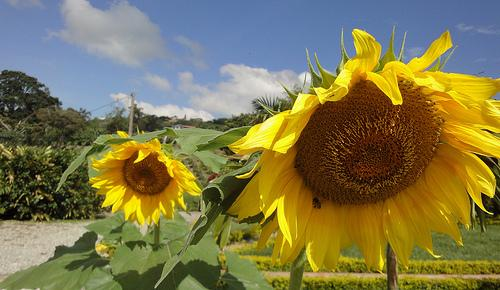sunflower: (231, 26, 500, 276), (90, 130, 203, 229)
